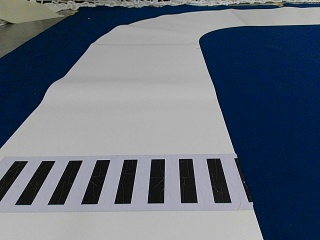crosswalk: (1, 157, 252, 205)
